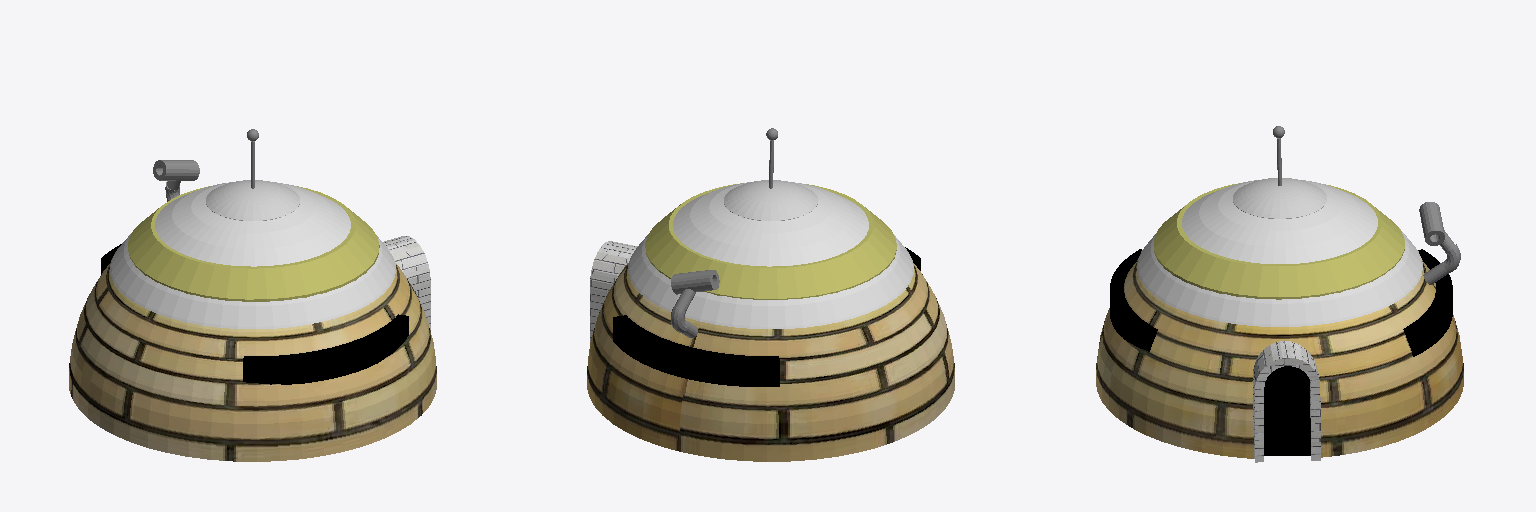
3 renders of one model, left to right at view 1: azimuth 30°, elevation 25°; view 2: azimuth 150°, elevation 25°; view 3: azimuth 270°, elevation 25°, orthographic.
Parts seen in each view (by area): view 1: Sphere001; view 2: Sphere001; view 3: Sphere001.
Boxes of the visible parts, x1,y1,x2,y2 form: Sphere001: [69, 129, 436, 461]; Sphere001: [587, 128, 954, 461]; Sphere001: [1096, 126, 1463, 462].
Size of the model in its own units: 91.47 by 68.73 by 89.96.
Materials: 7 (7 with a texture image).